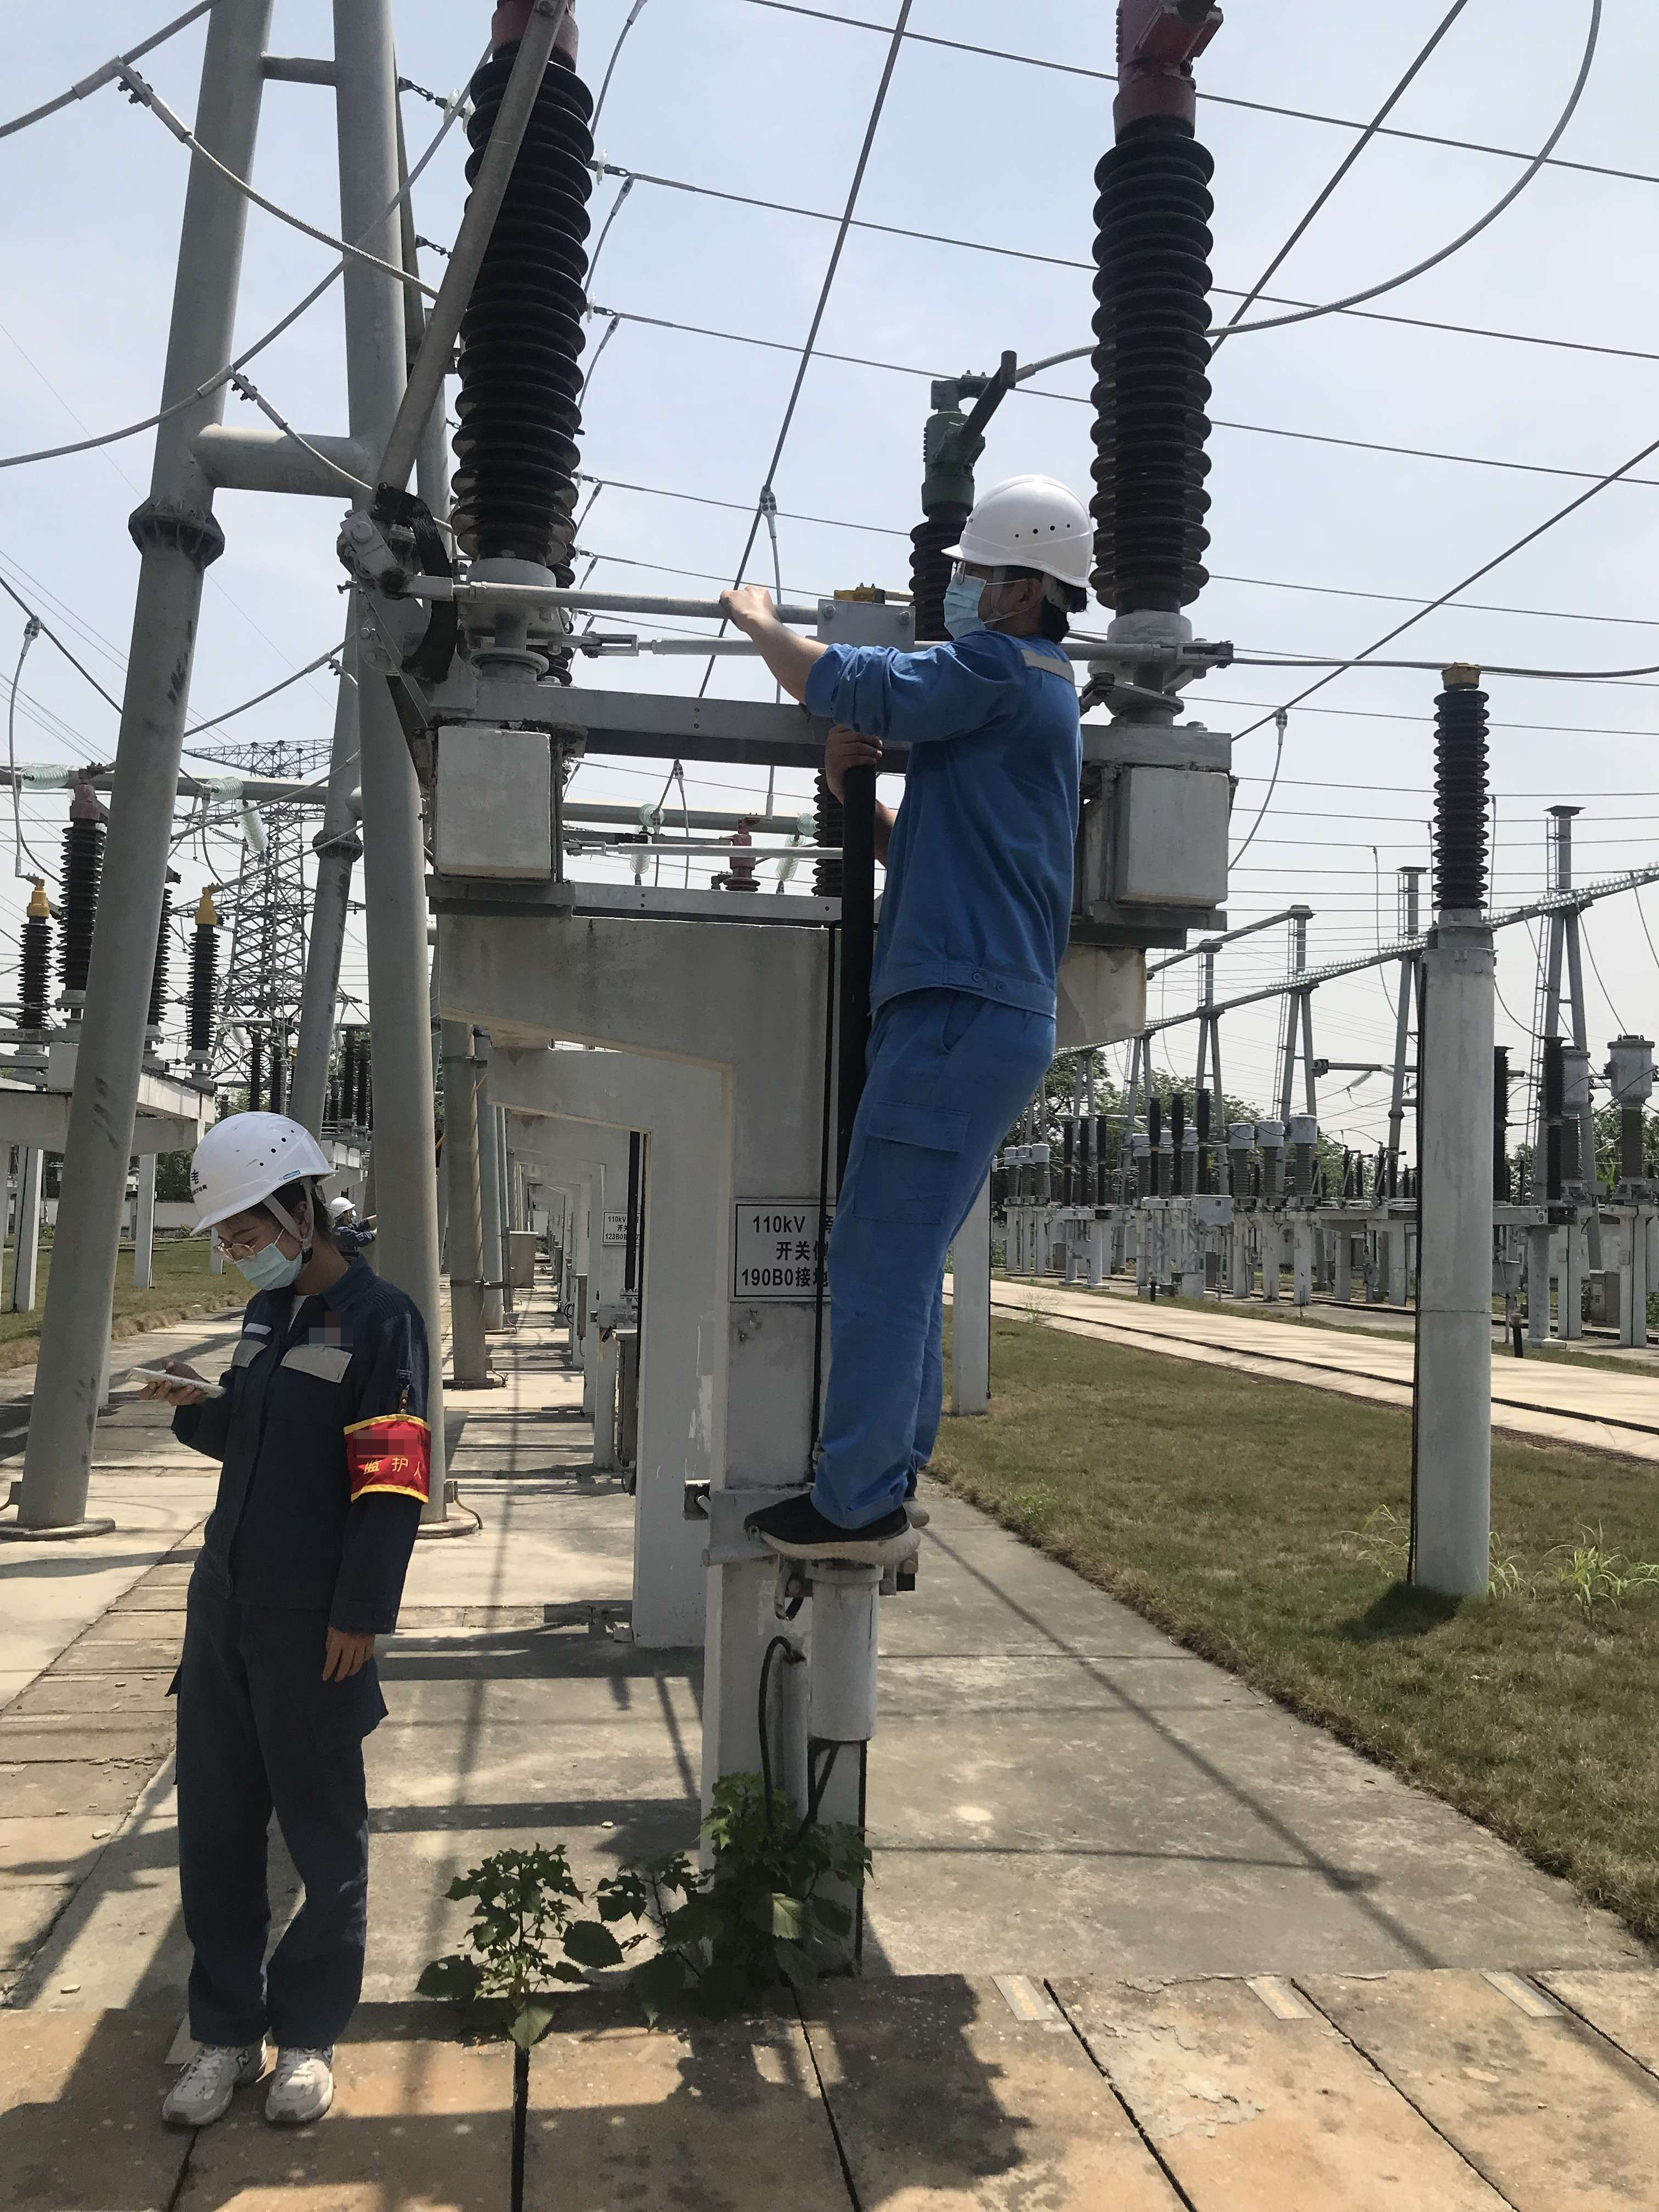downsuit: (793, 1031, 1053, 1531), (174, 1653, 383, 2045)
upsuit: (802, 625, 1091, 1014), (178, 1270, 437, 1632)
wrongtop: (714, 575, 842, 712)
